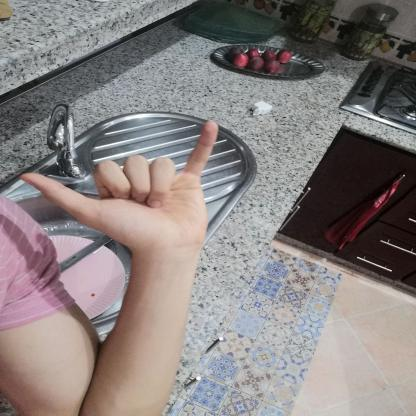YA: (7, 110, 232, 267)
